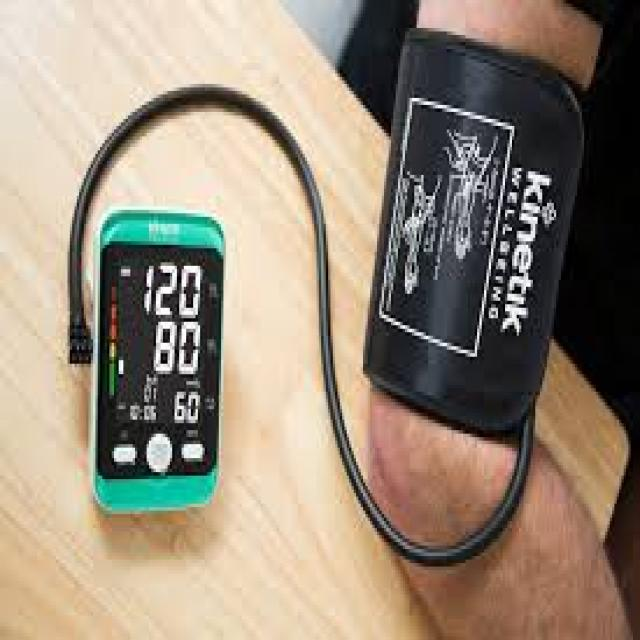dia: (146, 314, 213, 378)
pul: (165, 383, 209, 433)
ssd: (100, 244, 222, 478)
sys: (135, 254, 207, 317)
